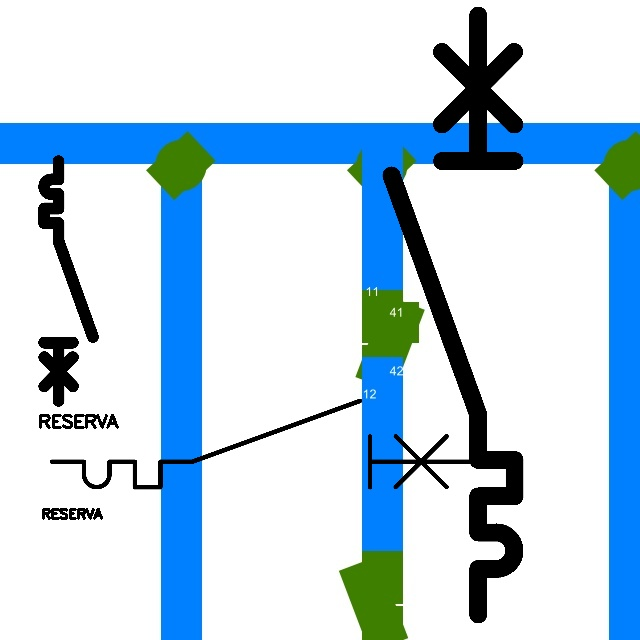interruptor_termomagnetico: (376, 0, 530, 630), (41, 390, 483, 498), (38, 155, 99, 407)
